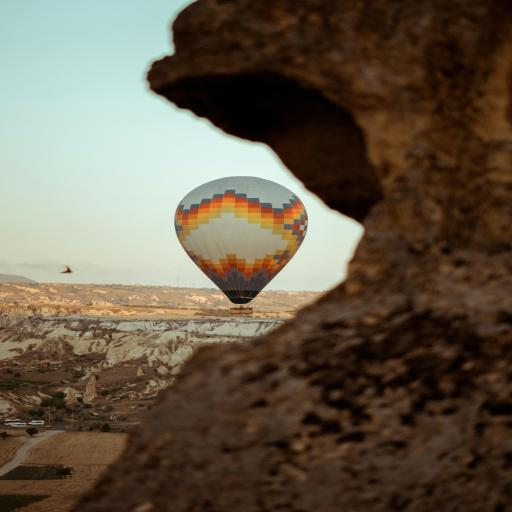hot air ballon: (164, 170, 316, 320)
